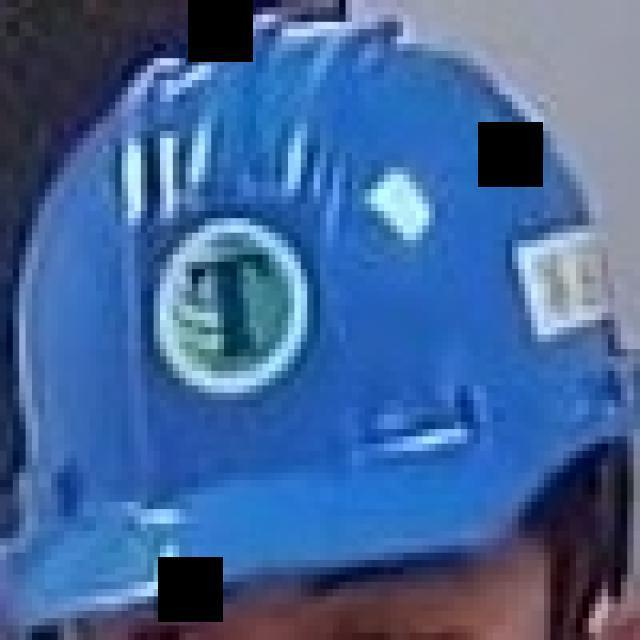blue helmet: (4, 1, 640, 633)
